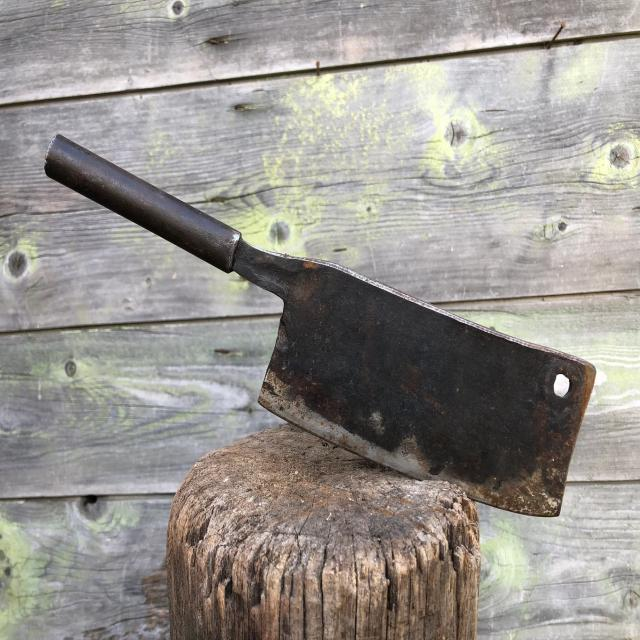cleaver: (49, 134, 584, 522)
